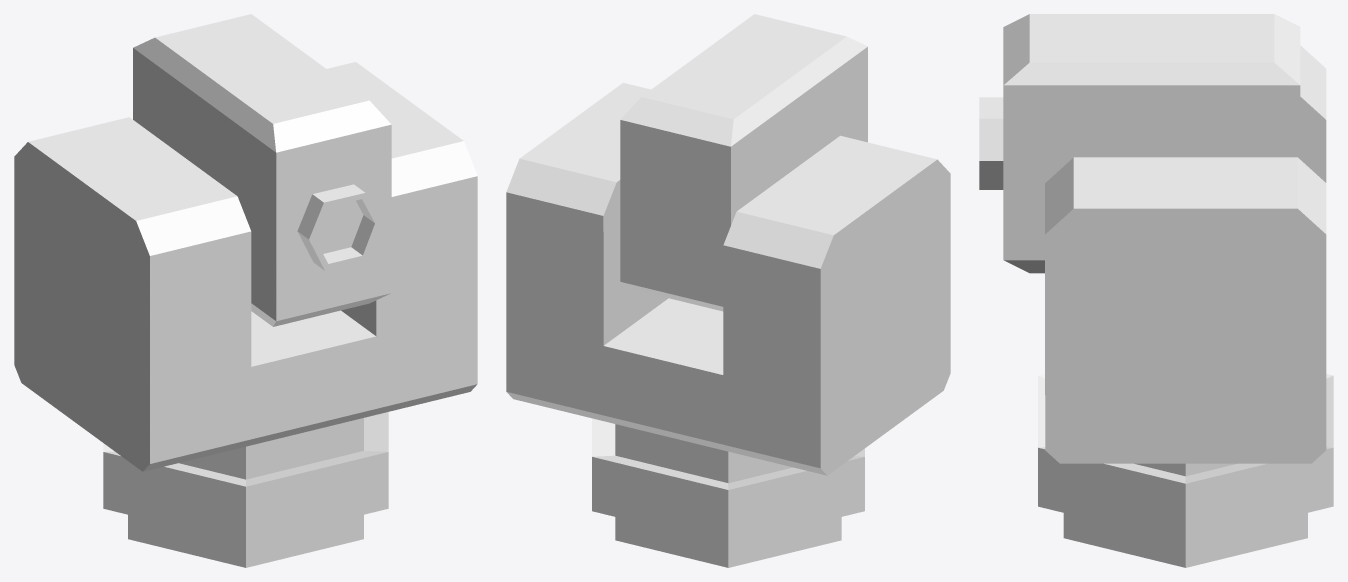
File: theodolite.glb
The picture shows the model from 3 angles, left to right: view 1: azimuth 30°, elevation 25°; view 2: azimuth 150°, elevation 25°; view 3: azimuth 270°, elevation 25°; orthographic projection. The views are drawn at different scales.
Visible parts, largest first — view 1: base, sensor; view 2: base, sensor; view 3: base, sensor.
Boxes of the visible parts, bbox=[...] form: base: bbox=[14, 62, 477, 567]; sensor: bbox=[133, 14, 391, 326]; base: bbox=[506, 82, 950, 567]; sensor: bbox=[620, 14, 867, 311]; base: bbox=[1038, 45, 1333, 567]; sensor: bbox=[979, 14, 1300, 273].
Size of the model in its own units: 1.39 by 1.84 by 1.26.
Materials: 1 (1 with a texture image).
